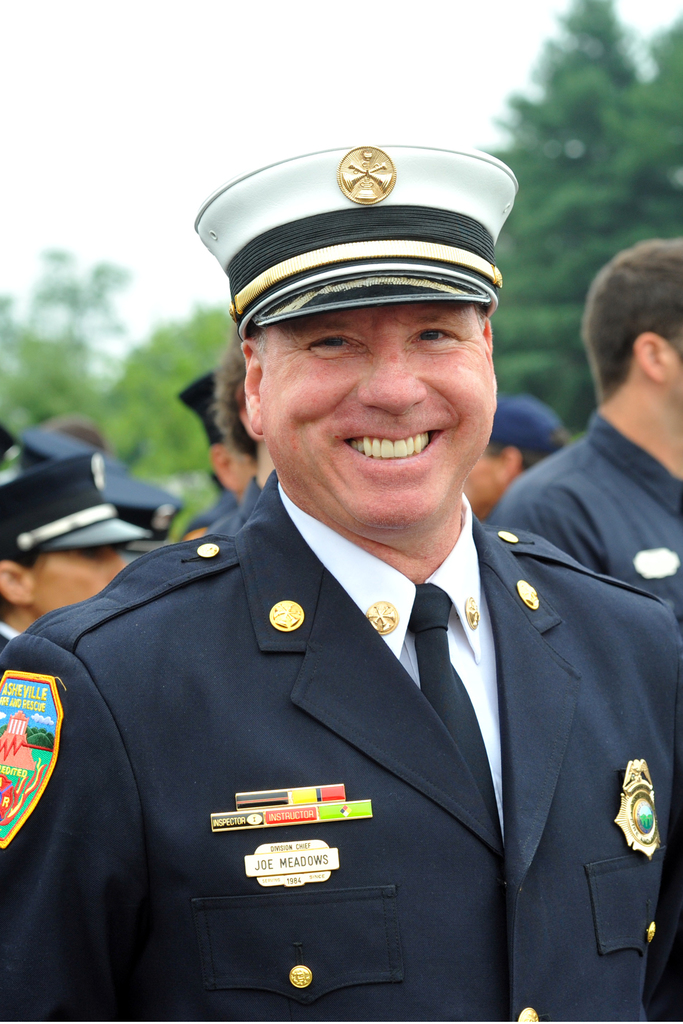face: (32, 512, 123, 642)
